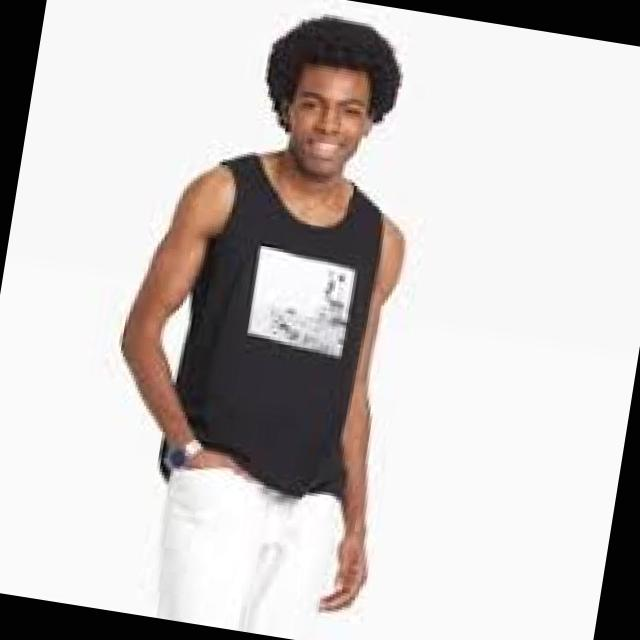no_vest: (156, 140, 398, 507)
